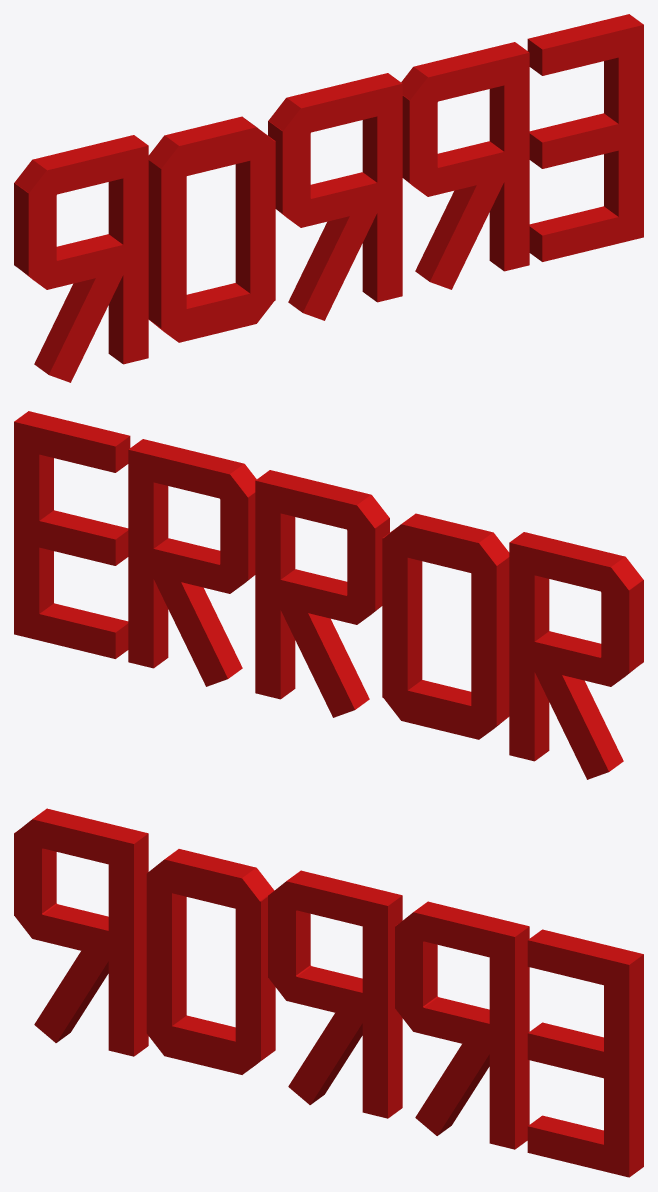
File: error.gltf
The picture shows the model from 3 angles, top to bottom: view 1: azimuth 30°, elevation 25°; view 2: azimuth 150°, elevation 25°; view 3: azimuth 330°, elevation 25°; orthographic projection.
Parts seen in each view (by area): view 1: cube (×30); view 2: cube (×29); view 3: cube (×26).
Boxes of the visible parts, bbox=[...] form: cube (×30): bbox=[14, 14, 643, 382]; cube (×29): bbox=[14, 411, 643, 779]; cube (×26): bbox=[14, 808, 643, 1177].
Size of the model in its own units: 3.03 by 1.03 by 0.125.
Materials: 1 (1 with a texture image).
